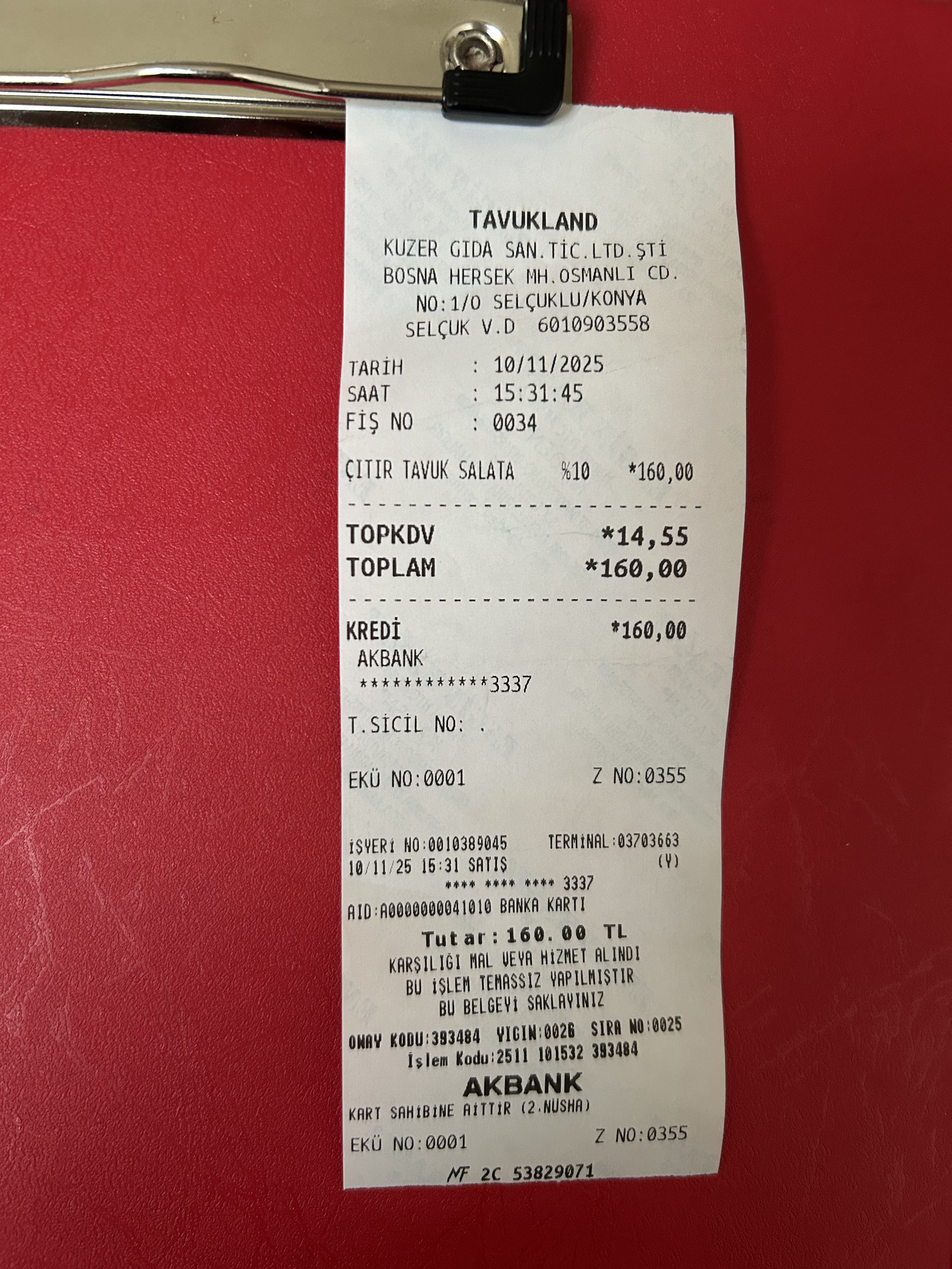date: (599, 555, 696, 587)
price: (490, 351, 610, 379)
workplace: (370, 203, 701, 314)
